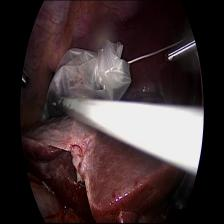Irrigator: (48, 93, 73, 115)
Specimen Bag: (41, 31, 135, 133)
